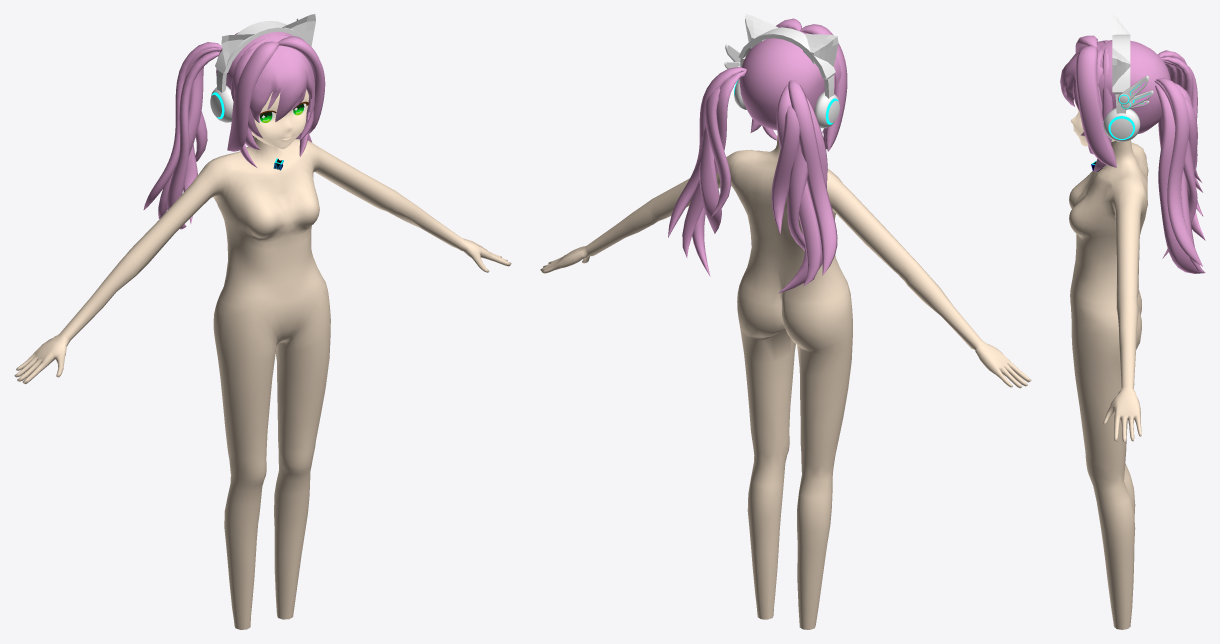
The model's file is mccc.gltf.
The picture shows the model from 3 angles, left to right: view 1: azimuth 30°, elevation 25°; view 2: azimuth 150°, elevation 25°; view 3: azimuth 270°, elevation 25°; orthographic projection. The views are drawn at different scales.
Parts seen in each view (by area): view 1: Cylinder.003, NurbsPath.007, Plane.002, NurbsPath.001, Circle, Cube, Cube.002, NurbsPath; view 2: Cylinder.003, NurbsPath.007, Sphere, NurbsPath.001, Cube, Cube.002, Circle.005; view 3: Cylinder.003, NurbsPath.007, NurbsPath.001, Sphere, Circle.005, Plane.002, Cube, Wing, NurbsPath, Cube.002, Circle.
Boxes of the visible parts, box(x1,y1,x2,y2) form: Cylinder.003: box(14, 136, 511, 629); NurbsPath.007: box(143, 42, 312, 229); Plane.002: box(233, 38, 314, 138); NurbsPath.001: box(227, 36, 325, 151); Circle: box(251, 89, 308, 149); Cube: box(215, 21, 310, 93); Cube.002: box(221, 14, 315, 67); NurbsPath: box(231, 35, 313, 167); Cylinder.003: box(540, 135, 1031, 629); NurbsPath.007: box(668, 67, 837, 293); Sphere: box(739, 38, 824, 130); NurbsPath.001: box(750, 18, 847, 151); Cube: box(738, 27, 835, 98); Cube.002: box(745, 14, 838, 66); Circle.005: box(734, 79, 839, 128); Cylinder.003: box(1069, 140, 1148, 629); NurbsPath.007: box(1154, 50, 1205, 273); NurbsPath.001: box(1075, 35, 1116, 167); Sphere: box(1098, 40, 1170, 134); Circle.005: box(1103, 108, 1140, 141); Plane.002: box(1060, 40, 1103, 136); Cube: box(1112, 34, 1130, 113); Wing: box(1118, 75, 1153, 109); NurbsPath: box(1088, 40, 1113, 171); Cube.002: box(1112, 14, 1130, 86); Circle: box(1070, 103, 1114, 146).
Bounding box in the file's own units: 1.24 × 1.45 × 0.3296.
15 materials, 1 textured.
